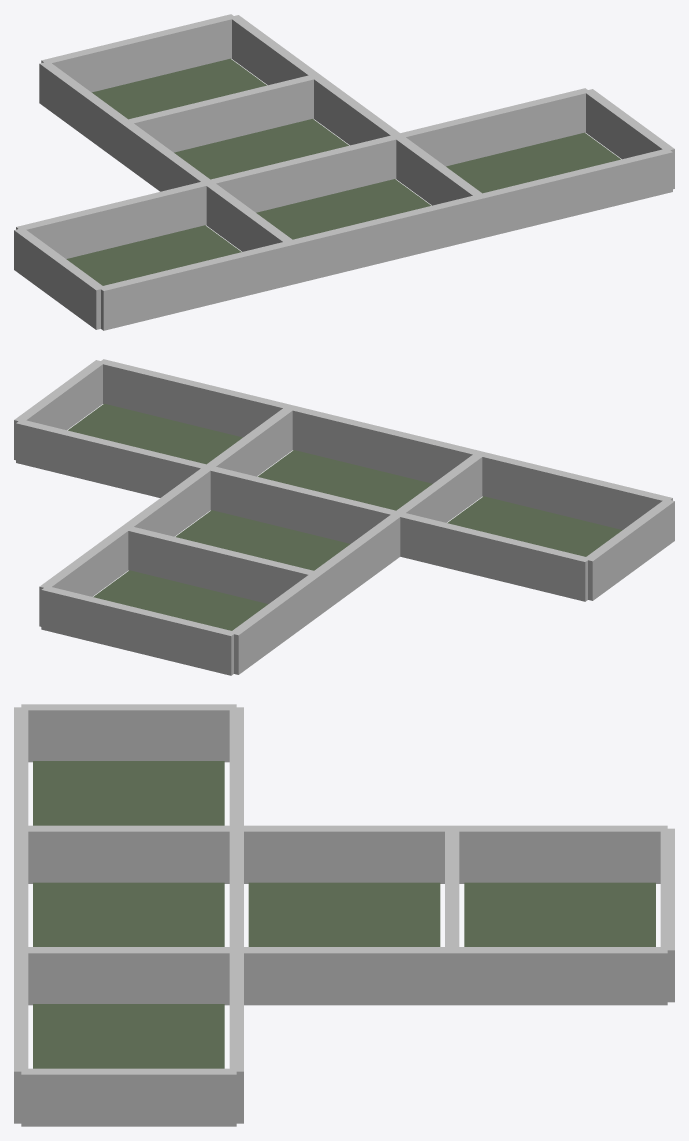
The model's file is r03-desert-dunes__layout_main.obj.
The picture shows the model from 3 angles, top to bottom: view 1: azimuth 30°, elevation 25°; view 2: azimuth 150°, elevation 25°; view 3: azimuth 270°, elevation 25°; orthographic projection. The views are drawn at different scales.
Visible parts, largest first — view 1: walls, floors; view 2: walls, floors; view 3: walls, floors.
Part boxes in pixels (x1,y1,x2,y2): walls: (14, 14, 674, 330); floors: (66, 58, 620, 285); walls: (14, 359, 674, 675); floors: (68, 403, 622, 630); walls: (14, 704, 674, 1126); floors: (33, 761, 655, 1068).
Bounding box in the file's own units: 36.6 × 2.45 × 27.6.
